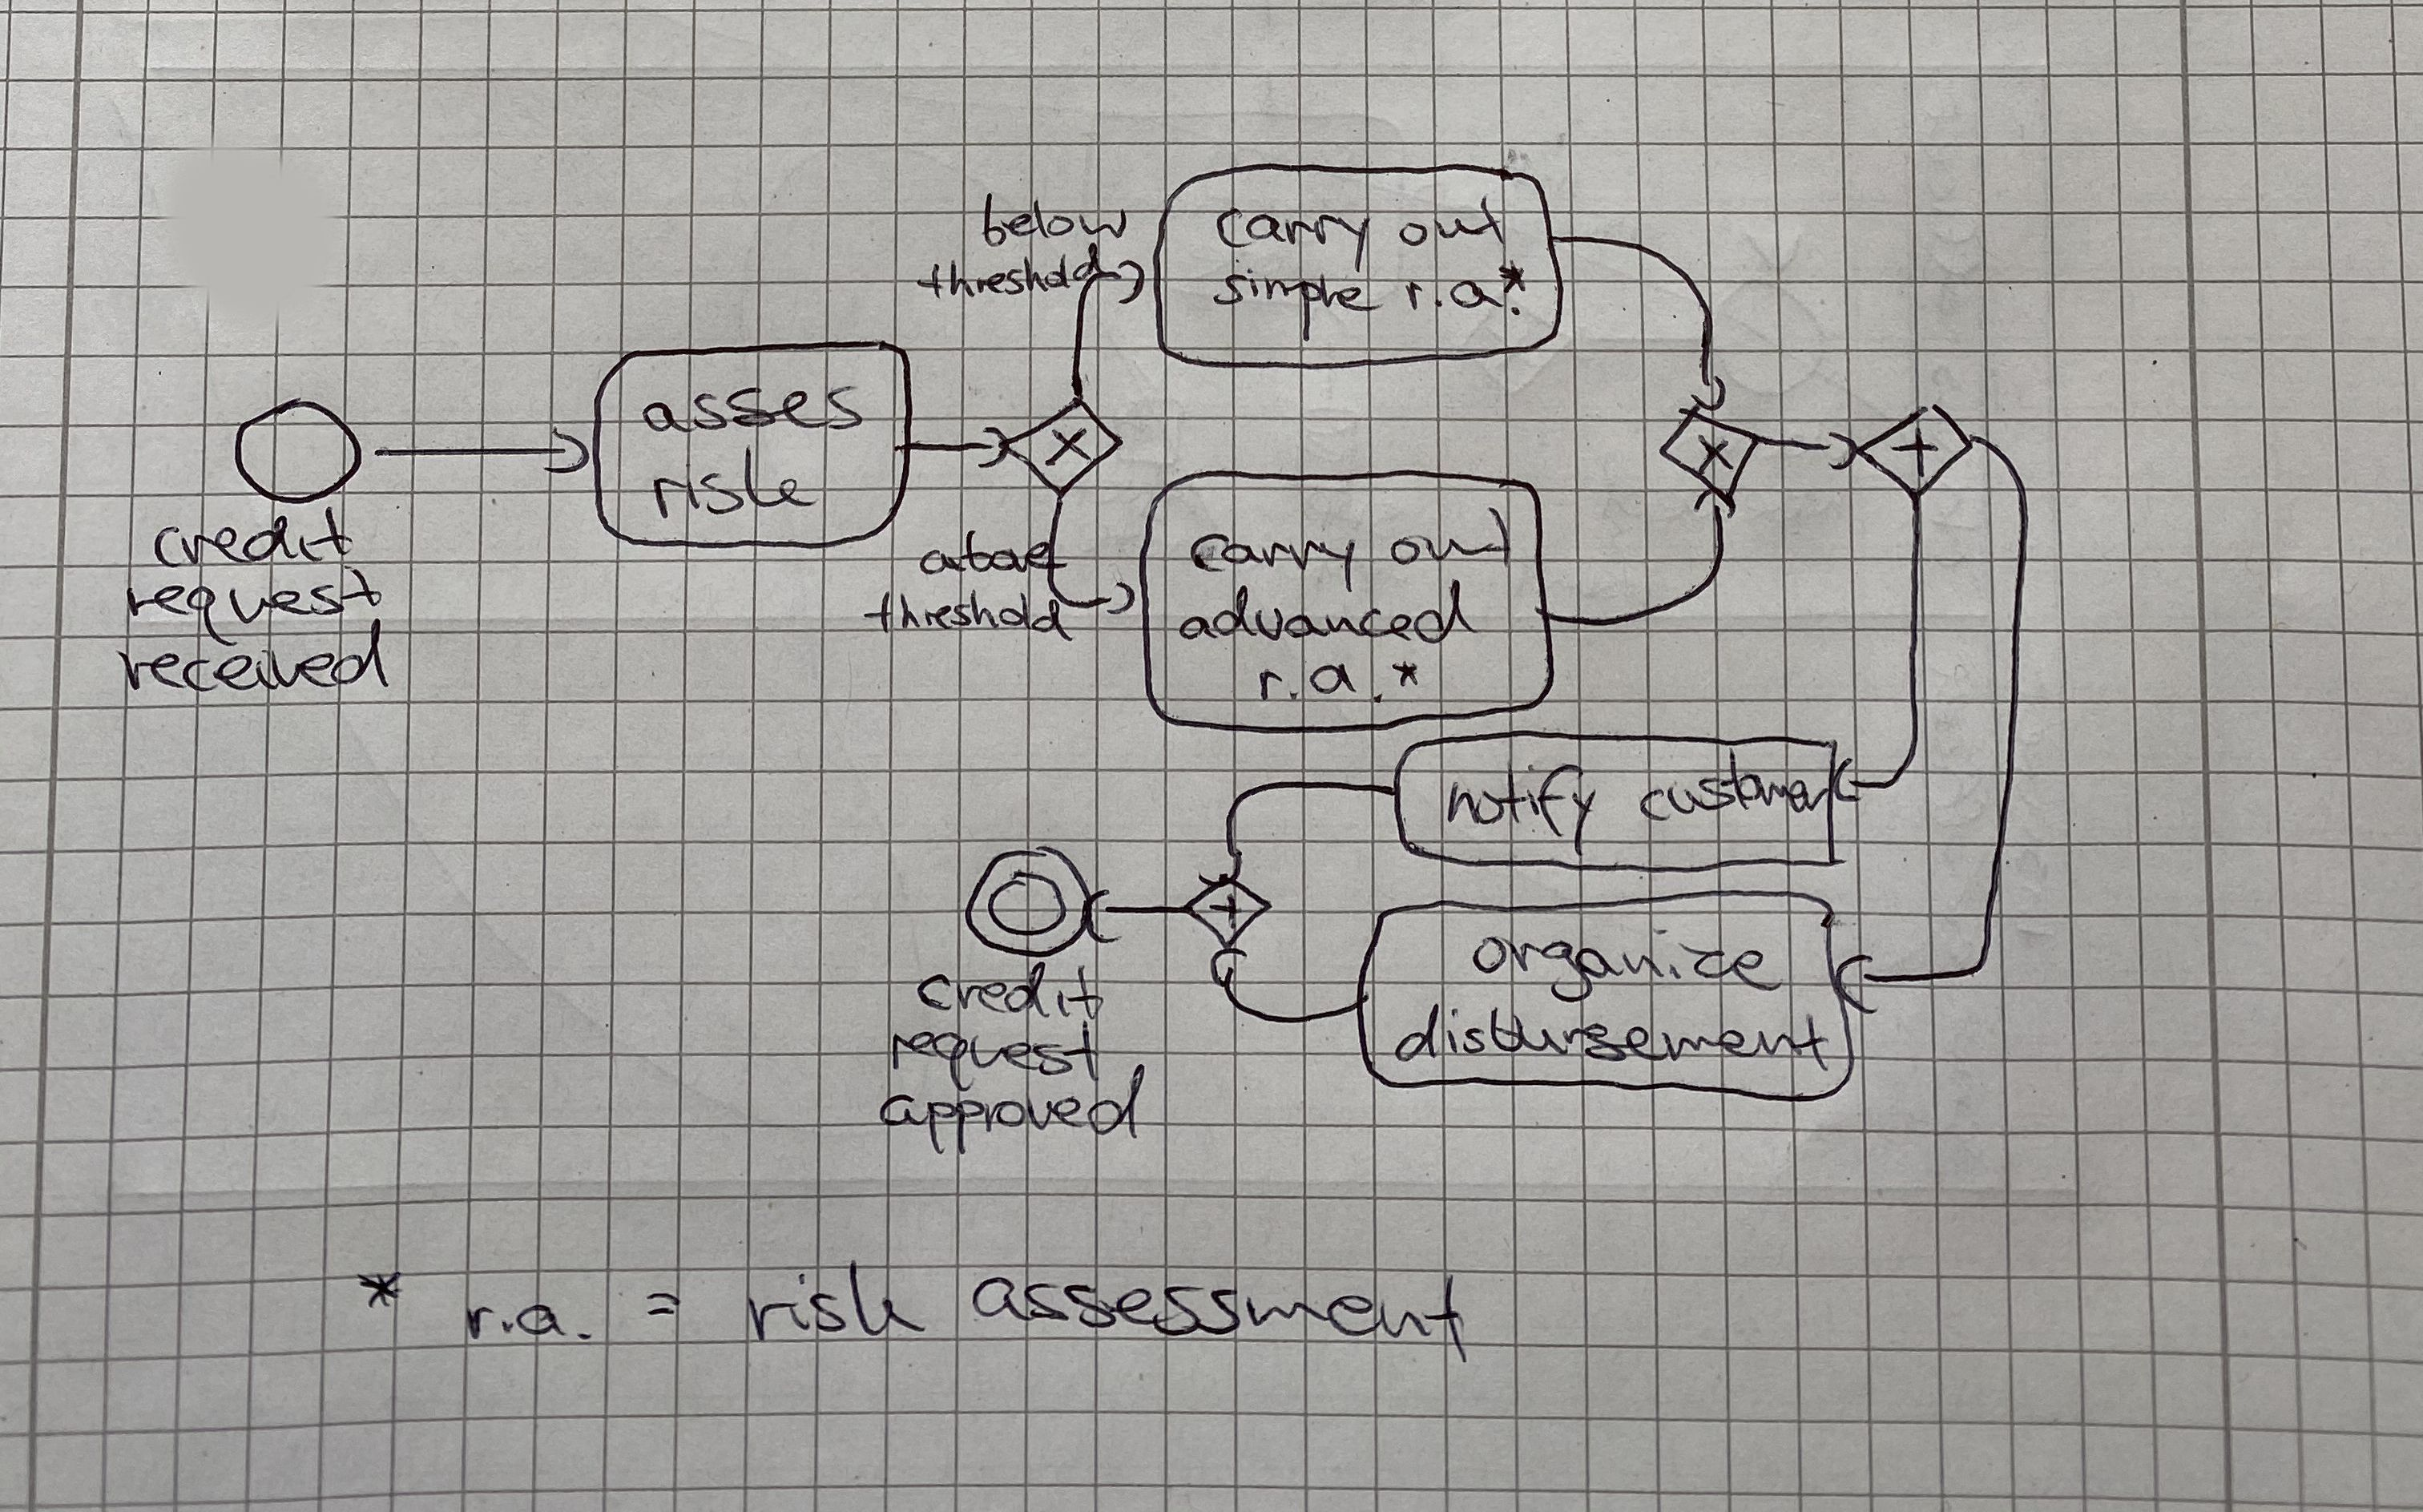*: (343, 1259, 409, 1317)
=: (634, 1284, 686, 1327)
above: (911, 524, 1071, 580)
advanced: (1172, 575, 1484, 650)
approved: (871, 1061, 1150, 1162)
asses: (634, 376, 871, 441)
assessment: (967, 1268, 1472, 1369)
below: (974, 188, 1132, 253)
carry: (1209, 202, 1376, 277), (1183, 530, 1360, 597)
credit: (148, 502, 359, 573), (911, 953, 1110, 1024)
customer: (1634, 742, 1832, 827)
disbursement: (1388, 998, 1834, 1077)
notify: (1441, 756, 1601, 861)
organize: (1467, 921, 1789, 1009)
out: (1383, 502, 1515, 571), (1392, 190, 1510, 251)
r.a.: (456, 1296, 597, 1348)
r.a.*: (1251, 655, 1423, 709), (1395, 256, 1533, 321)
received: (110, 613, 395, 700)
request: (118, 561, 387, 650), (885, 1017, 1103, 1096)
risk: (740, 1254, 930, 1347), (641, 441, 824, 526)
simple: (1207, 265, 1385, 347)
threshold: (857, 584, 1078, 646), (911, 239, 1111, 301)
